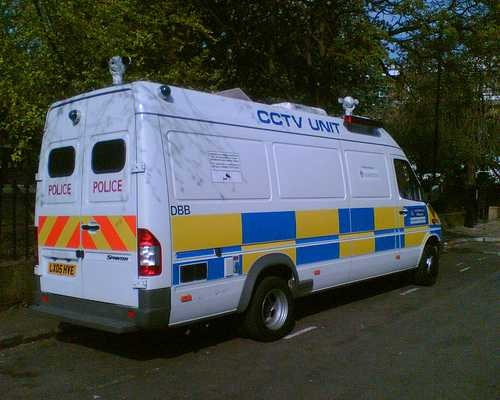Police Van: (25, 81, 457, 359)
